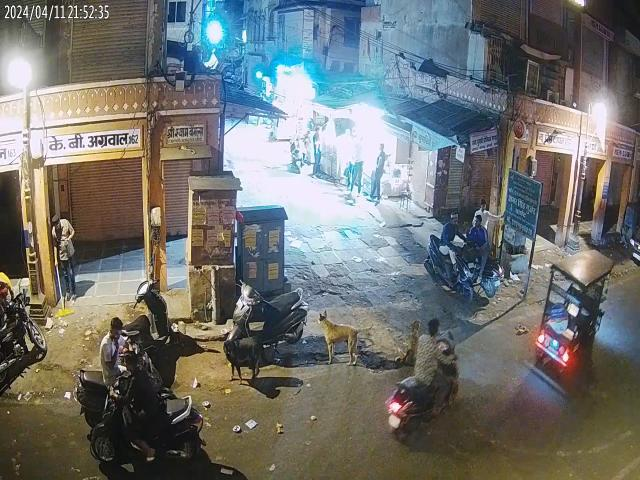auto: (528, 248, 614, 388)
no_helmet: (108, 317, 124, 339), (447, 212, 460, 232), (428, 320, 443, 337), (122, 354, 138, 369)
person: (51, 214, 79, 300)
scooty: (226, 284, 306, 366), (122, 276, 174, 360)
scooty-rider: (94, 350, 202, 468), (392, 319, 464, 438), (76, 322, 166, 417), (427, 212, 472, 304)
